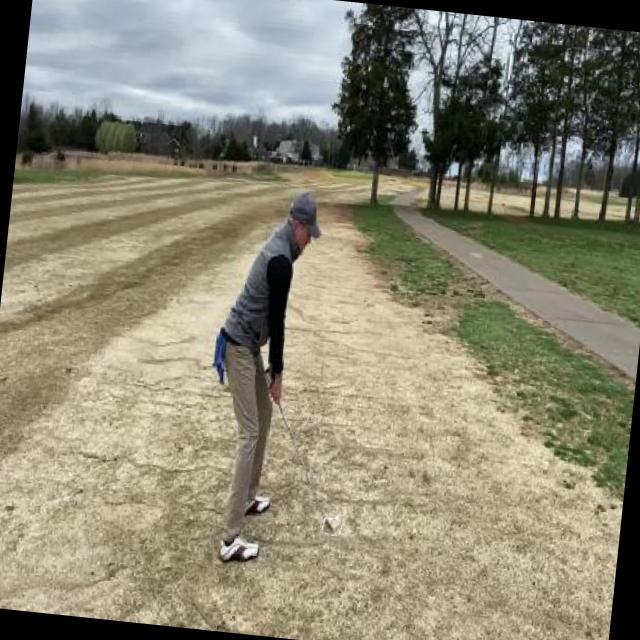club head: (322, 518, 342, 536)
